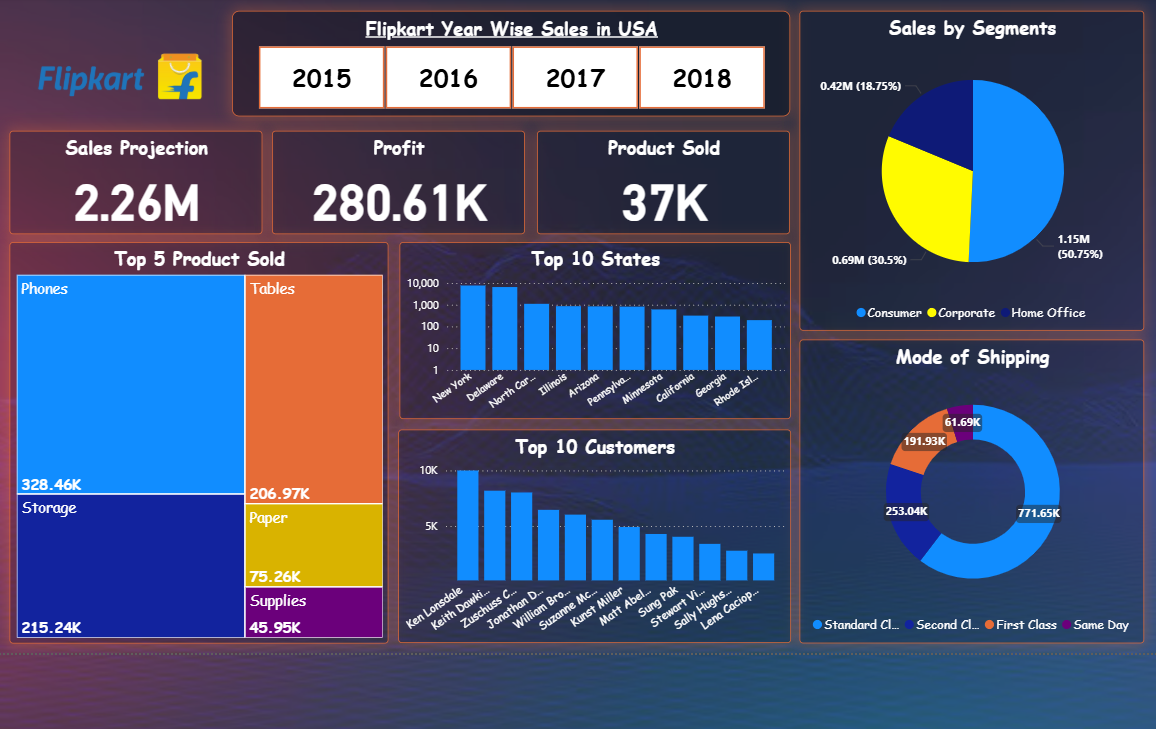

This screenshot's page, from the dashboard's own definition file:
{"tool":"powerbi","page":{"name":"Page 1","canvas":[1280,720],"ordinal":0},"visuals":[{"type":"image","box":[13.7,0,242.9,174.3],"z":0},{"type":"slicer","title":"Flipkart Year Wise Sales in USA","fields":{"Values":["orders.Year"]},"box":[258,14.7,612.6,116.2],"z":1000},{"type":"card","title":"Sales Projection","fields":{"Values":["orders.sales"]},"box":[13.5,146.7,277.6,113.7],"z":2000},{"type":"card","title":"Profit","fields":{"Values":["orders.profit"]},"box":[302,146.7,277.6,113.7],"z":3000},{"type":"card","title":"Product Sold","fields":{"Values":["orders.quantity"]},"box":[593.1,146.7,277.6,113.7],"z":4000},{"type":"pieChart","title":"Sales by Segments","fields":{"Category":["orders.segement"],"Y":["orders.sales"]},"box":[881,15.1,378.7,351.3],"z":5000},{"type":"donutChart","title":"Mode of Shipping","fields":{"Y":["orders.sales"],"Category":["orders.shipmode"]},"box":[881,376,378.7,333.4],"z":6000},{"type":"columnChart","title":"Top 10 States","fields":{"Y":["orders.sales"],"Category":["orders.state"]},"box":[441.4,269,429.2,194.4],"z":7000},{"type":"columnChart","title":"Top 10 Customers","fields":{"Category":["orders.cname"],"Y":["orders.sales"]},"box":[440.5,474.8,430.9,234.6],"z":8000},{"type":"treemap","title":"Top 5 Product Sold","fields":{"Group":["orders.subcategory"],"Values":["orders.sales"]},"box":[13.7,269,415.8,440.5],"z":9000}]}

Visuals, with their boxes on the page's 1280x720 design canvas (x1, y1, x2, y2). These are canvas units, not pixel positions in the 1156x729 screenshot, which may show the page scaled, cropped or inside an application window:
image: <box>14,0,257,174</box>
"Flipkart Year Wise Sales in USA" slicer: <box>258,15,871,131</box>
"Sales Projection" card: <box>14,147,291,260</box>
"Profit" card: <box>302,147,580,260</box>
"Product Sold" card: <box>593,147,871,260</box>
"Sales by Segments" pieChart: <box>881,15,1260,366</box>
"Mode of Shipping" donutChart: <box>881,376,1260,709</box>
"Top 10 States" columnChart: <box>441,269,871,463</box>
"Top 10 Customers" columnChart: <box>440,475,871,709</box>
"Top 5 Product Sold" treemap: <box>14,269,430,710</box>
